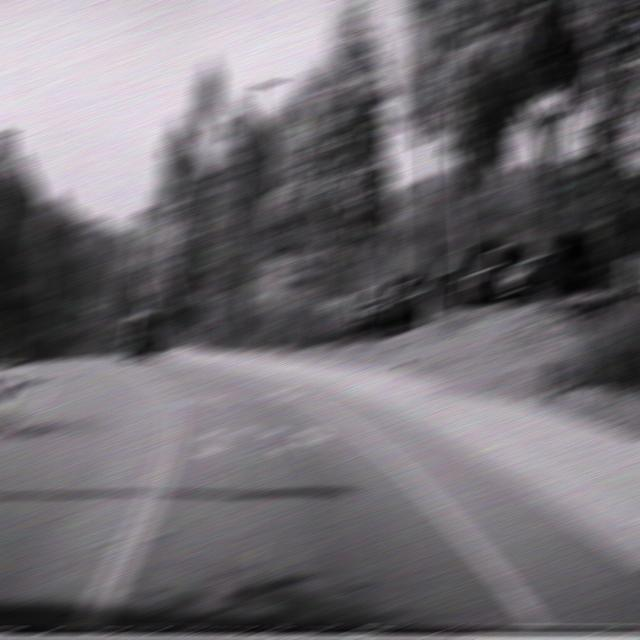pedestrianCrossing: (365, 218, 403, 274)
